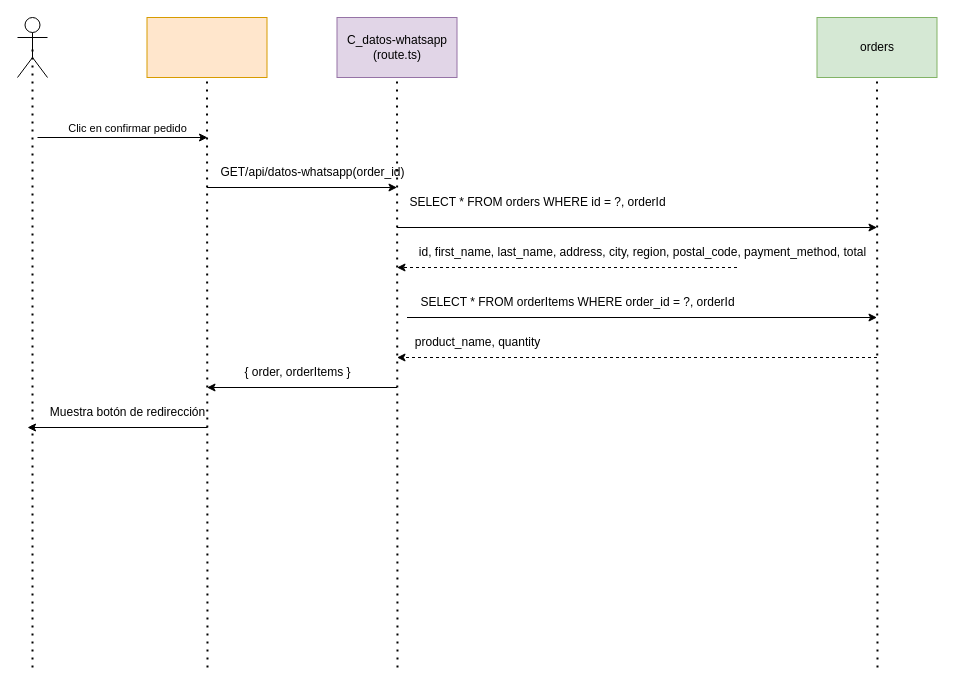
The diagram is 955 pixels wide and 687 high, and some of its shapes have lost their labels. Here are the shapes that lost their labels. From the top down, the centre of each, then its label:
At pixel 32 47: "Actor".
At pixel 206 47: "V_redireccion-whattsap".
